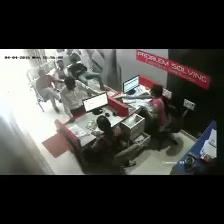person: (60, 77, 100, 122), (91, 116, 127, 164), (69, 54, 105, 90), (36, 70, 61, 113), (54, 61, 67, 90)
